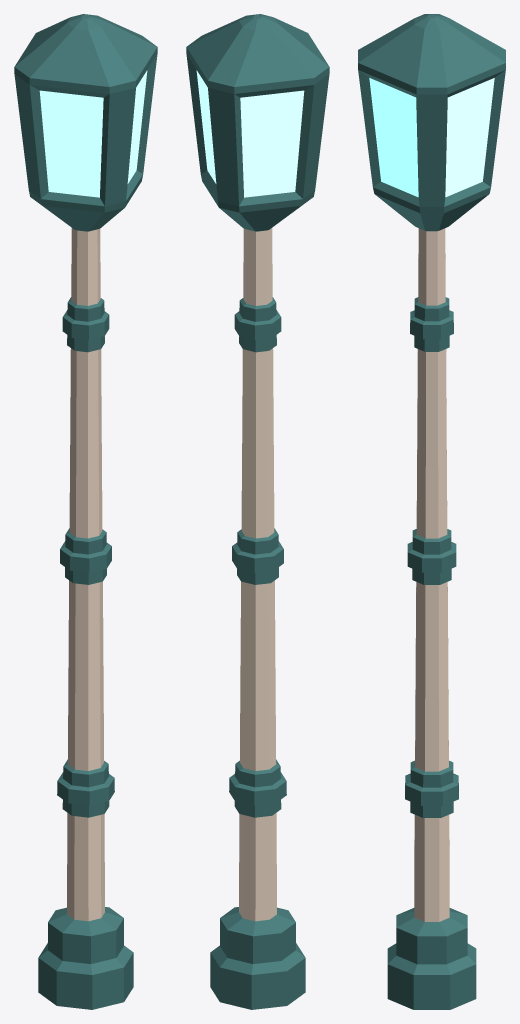
File: Lamp_Ground_Aridite.fbx
3 views of the same model, side by side, from view 1: azimuth 30°, elevation 25°; view 2: azimuth 150°, elevation 25°; view 3: azimuth 270°, elevation 25° (orthographic).
Visible parts, largest first — view 1: AriditeLamp_Ground_LOD0; view 2: AriditeLamp_Ground_LOD0; view 3: AriditeLamp_Ground_LOD0.
Part boxes in pixels (x1,y1,x2,y2): AriditeLamp_Ground_LOD0: (14,14,157,1009); AriditeLamp_Ground_LOD0: (186,14,329,1009); AriditeLamp_Ground_LOD0: (358,14,505,1009).
Size of what is drawn, in the model's own units: 0.1921 by 1.4 by 0.1921.
